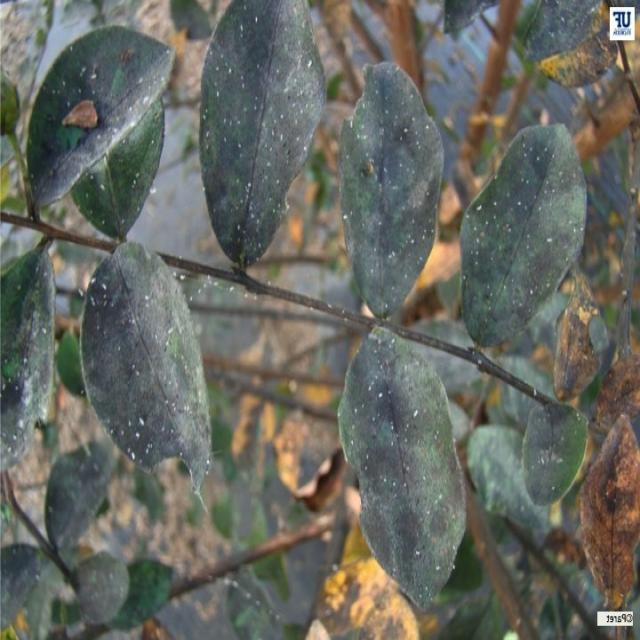Sooty Mold: (337, 28, 508, 580), (32, 12, 196, 502), (197, 0, 327, 269)
